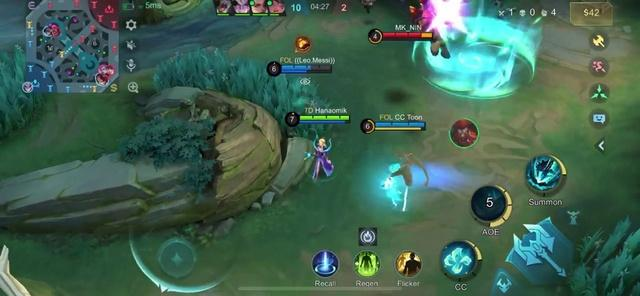Adc_Aliado: (100, 80, 108, 88)
Adc_Enemigo: (106, 65, 115, 75)
Arbusto: (153, 48, 330, 128), (568, 216, 639, 295), (0, 46, 43, 138)
Energia: (374, 126, 426, 132)
Exp_Aliado: (21, 83, 35, 92)
HP_Aliado: (283, 64, 333, 71), (374, 122, 427, 128)
HP_Enemigo: (382, 32, 432, 37)
HP_Heroe_Principal: (299, 116, 351, 121)
Hechizo_Batalla: (396, 251, 421, 276)
Jungla_Aliado: (42, 26, 52, 36)
Jungla_Enemigo: (51, 26, 62, 39)
Lesly: (390, 153, 429, 211)
Mana: (280, 70, 332, 73), (301, 120, 347, 123)
Matilda: (284, 81, 322, 113)
Mid_Aliado: (95, 80, 102, 87)
Mid_Enemigo: (99, 64, 107, 73)
Minimapa: (27, 0, 119, 93)
Minotauro: (416, 0, 462, 57)
Roamer_Aliado: (95, 73, 102, 81)
Roamer_Enemigo: (100, 73, 110, 79)
Skill1: (440, 240, 481, 279)
Skill3: (526, 155, 566, 192)
Tortuga_mapa: (48, 21, 60, 29)
Vexana: (312, 138, 333, 180)
